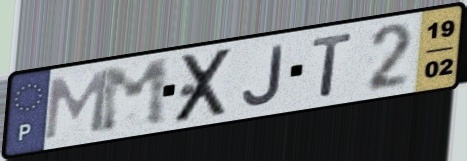2: (367, 21, 415, 94)
J: (240, 42, 287, 107)
M: (98, 56, 171, 137), (40, 67, 111, 142)
T: (310, 30, 356, 99)
X: (171, 45, 237, 127)
